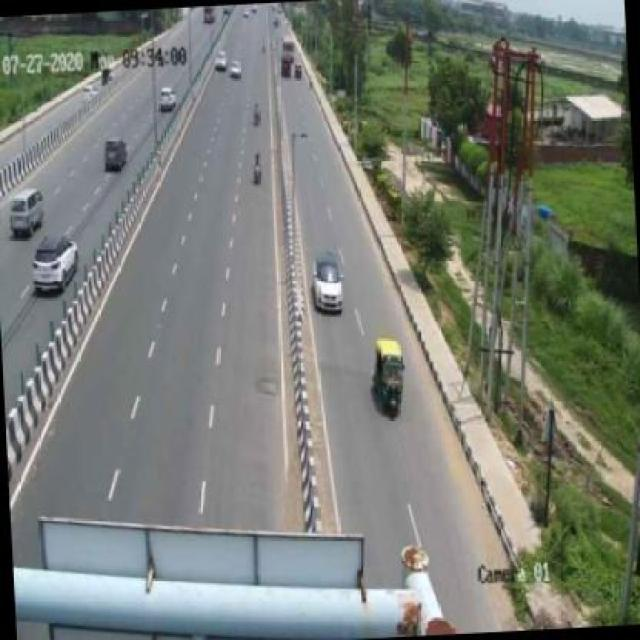car: (28, 228, 80, 302), (311, 244, 349, 318), (6, 185, 49, 243), (99, 132, 132, 174), (155, 84, 180, 110)
